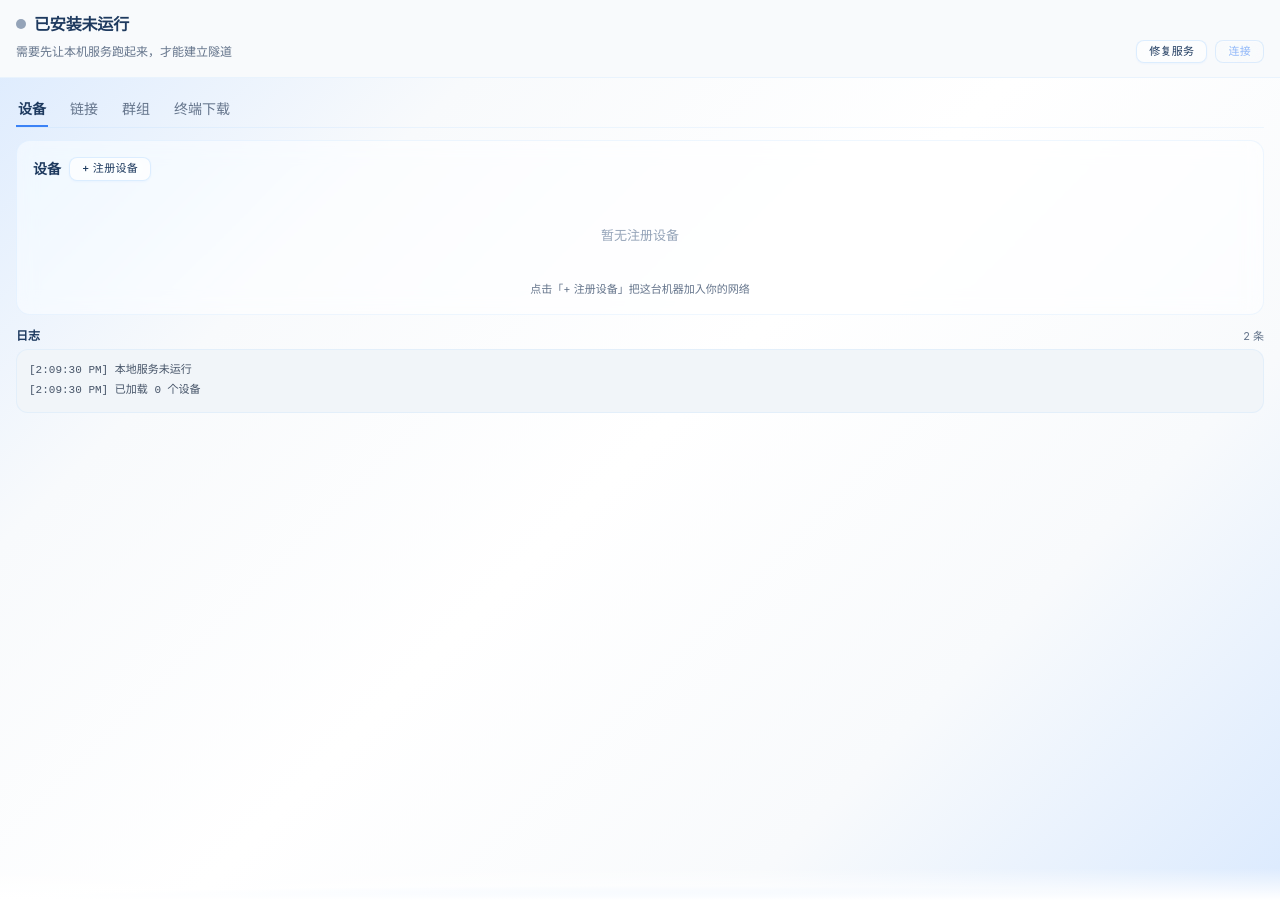
Test case: HuanvaeGuardPage (Windows) › 已注册但退避耗尽：下一步指向 Windows 的守护进程日志路径
The width and height of the screenshot is (1280, 900).
Click the button "修复服务" at point(1172, 52), box [1136,40,1207,63]
Wait 7500 ms
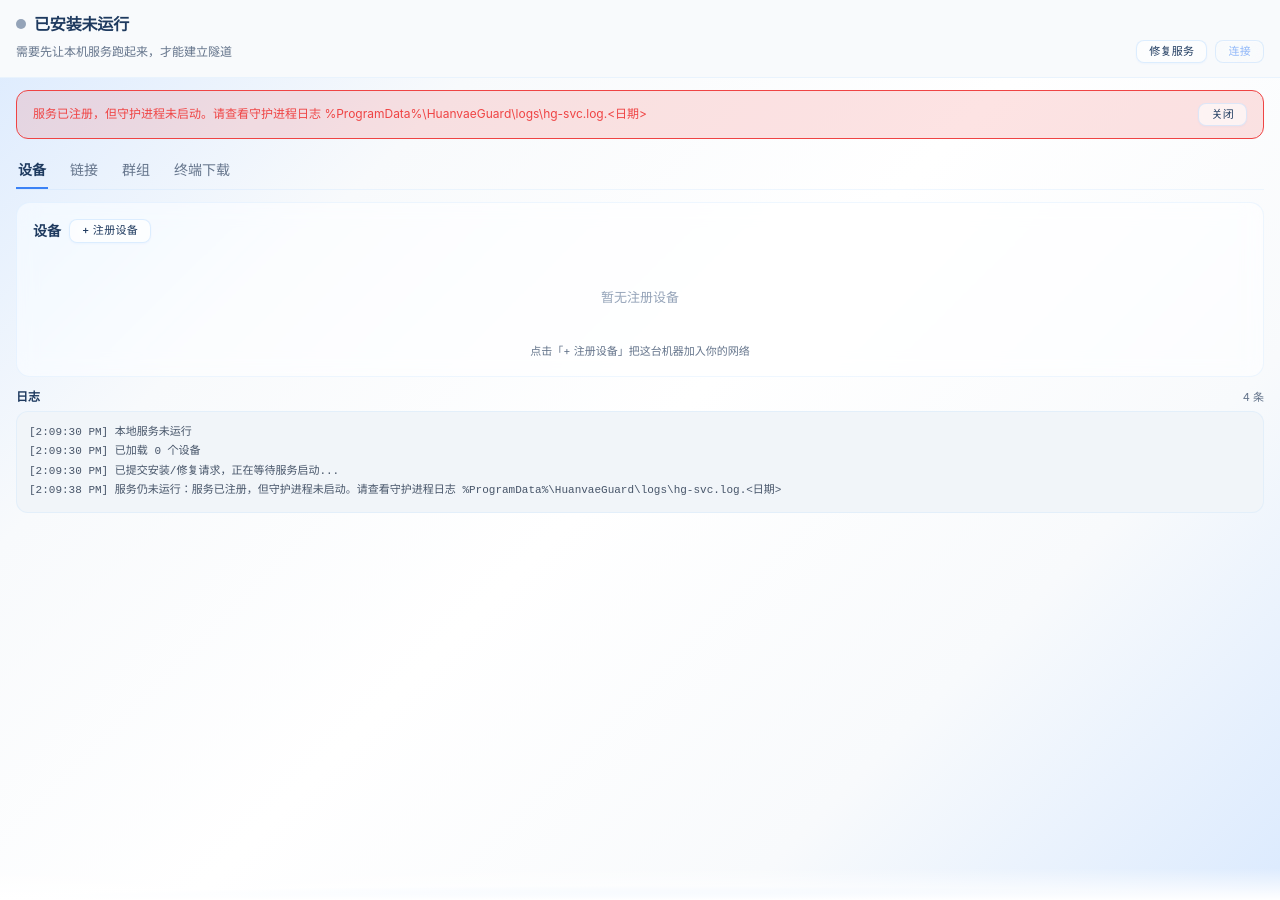
Now the text "%ProgramData%\\HuanvaeGuard\\logs" is shown, box [33,106,647,121]
